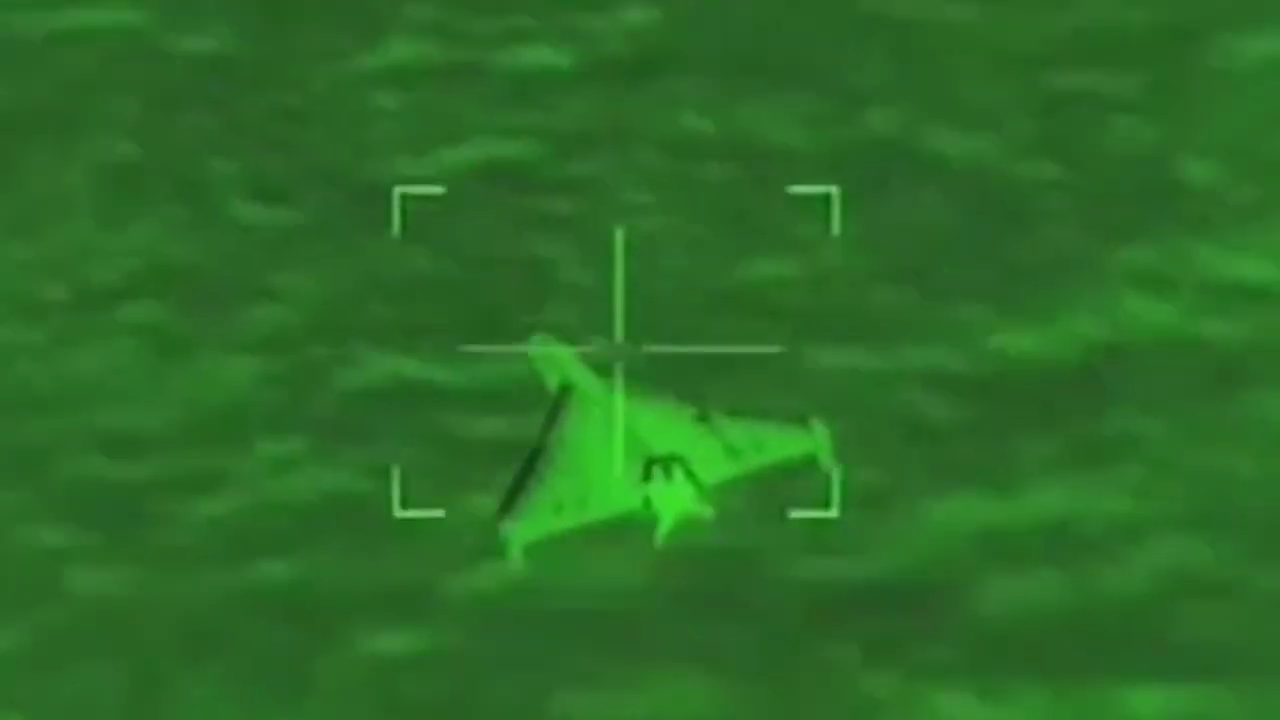shahed: (494, 330, 838, 572)
